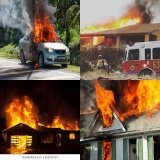fire: (80, 80, 160, 127), (4, 95, 79, 130), (80, 17, 139, 34), (31, 14, 59, 44), (14, 134, 33, 149), (102, 139, 111, 159), (32, 60, 40, 70), (92, 36, 100, 46), (69, 133, 75, 139)
